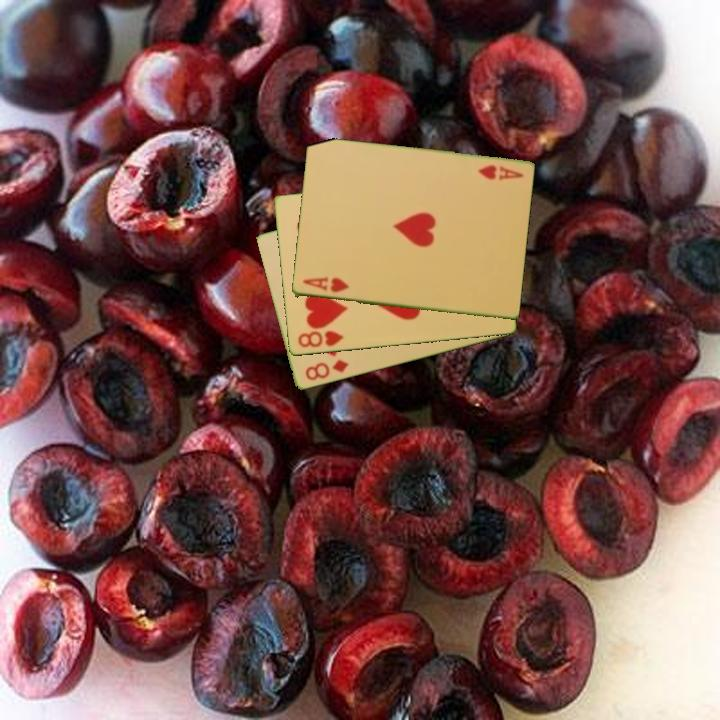8d: (301, 356, 352, 384)
8h: (294, 327, 346, 351)
Ah: (299, 274, 352, 296), (474, 162, 526, 183)
